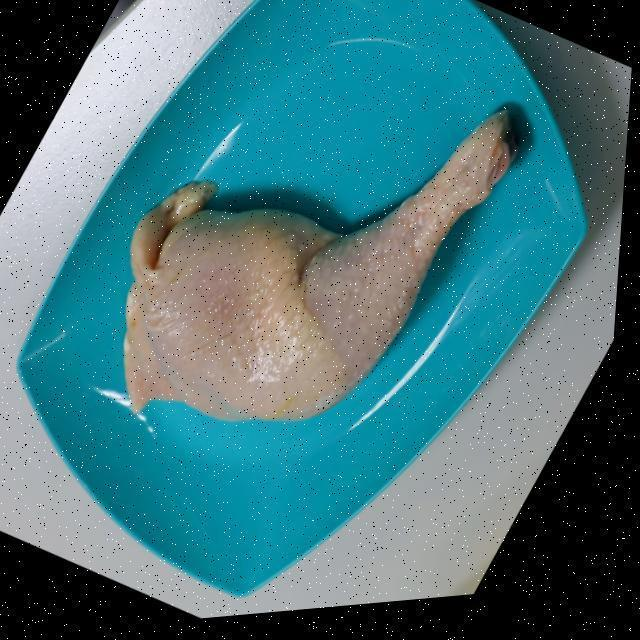quater: (94, 108, 530, 422)
